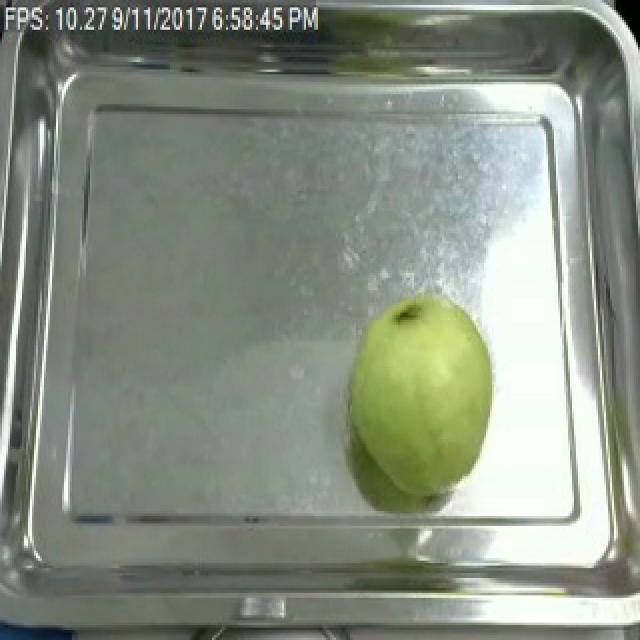Fruit: (342, 285, 504, 501)
